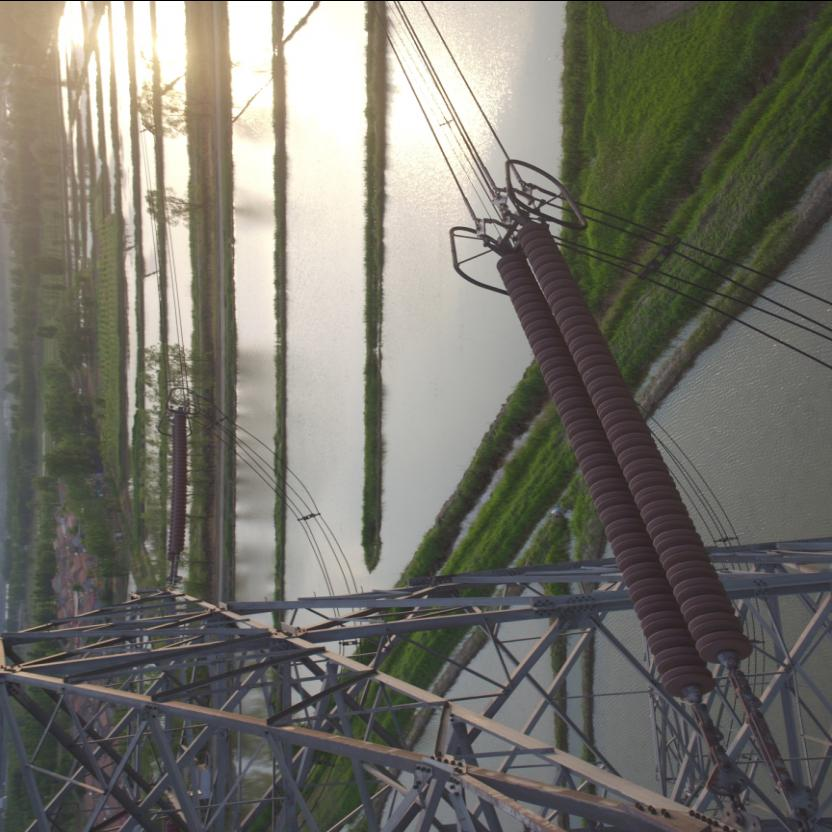insulator: (490, 214, 754, 740)
